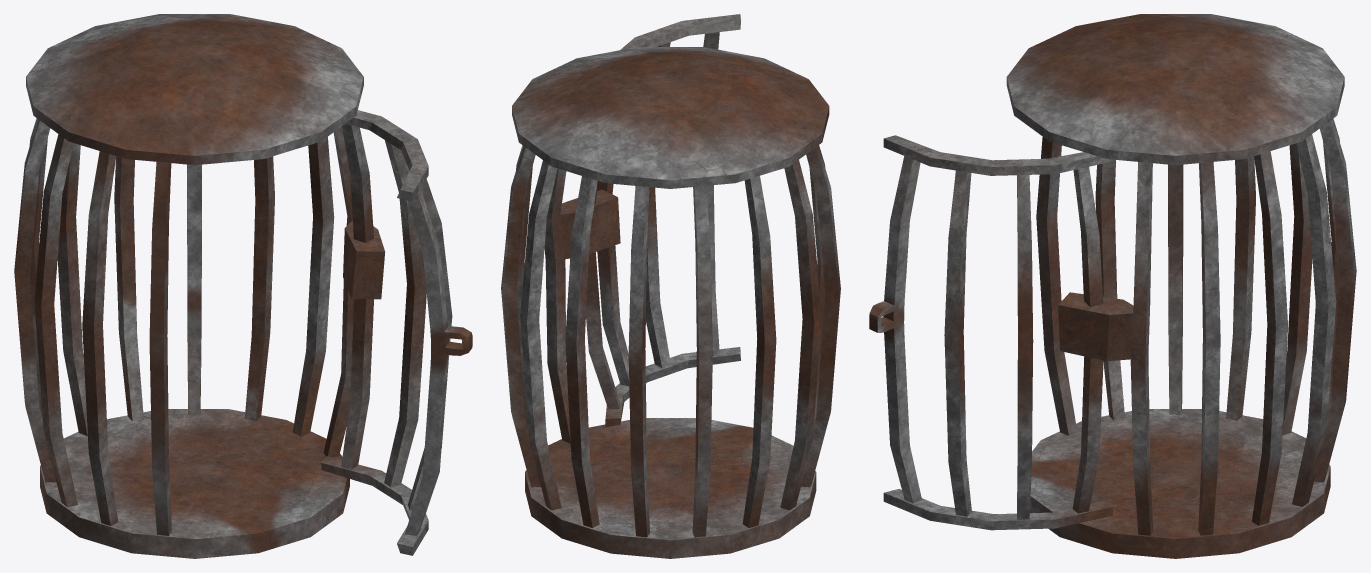
File: Cage.fbx
3 views of the same model, side by side, from view 1: azimuth 30°, elevation 25°; view 2: azimuth 150°, elevation 25°; view 3: azimuth 270°, elevation 25° (orthographic). The views are drawn at different scales.
Parts seen in each view (by area): view 1: Cage; view 2: Cage; view 3: Cage.
Boxes of the visible parts, x1,y1,x2,y2 form: Cage: [14, 14, 472, 558]; Cage: [501, 14, 840, 558]; Cage: [869, 14, 1356, 558].
Size of the model in its own units: 2.31 by 3.12 by 3.13.
1 material, 1 textured.
